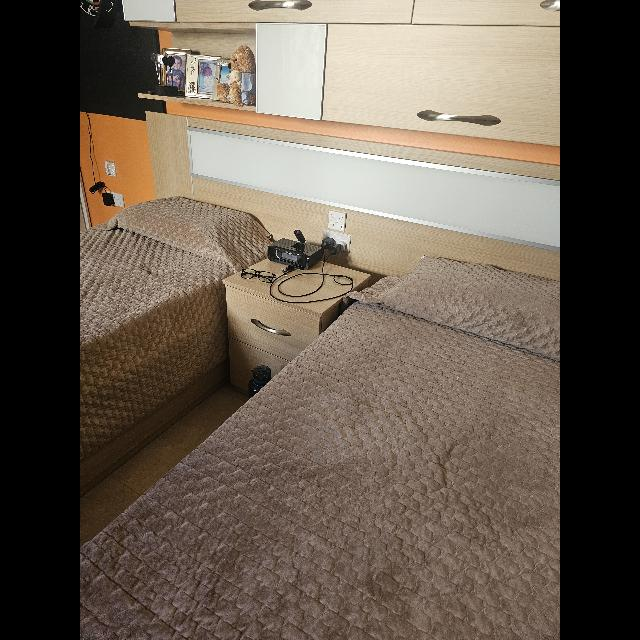glasses: (241, 268, 277, 284)
